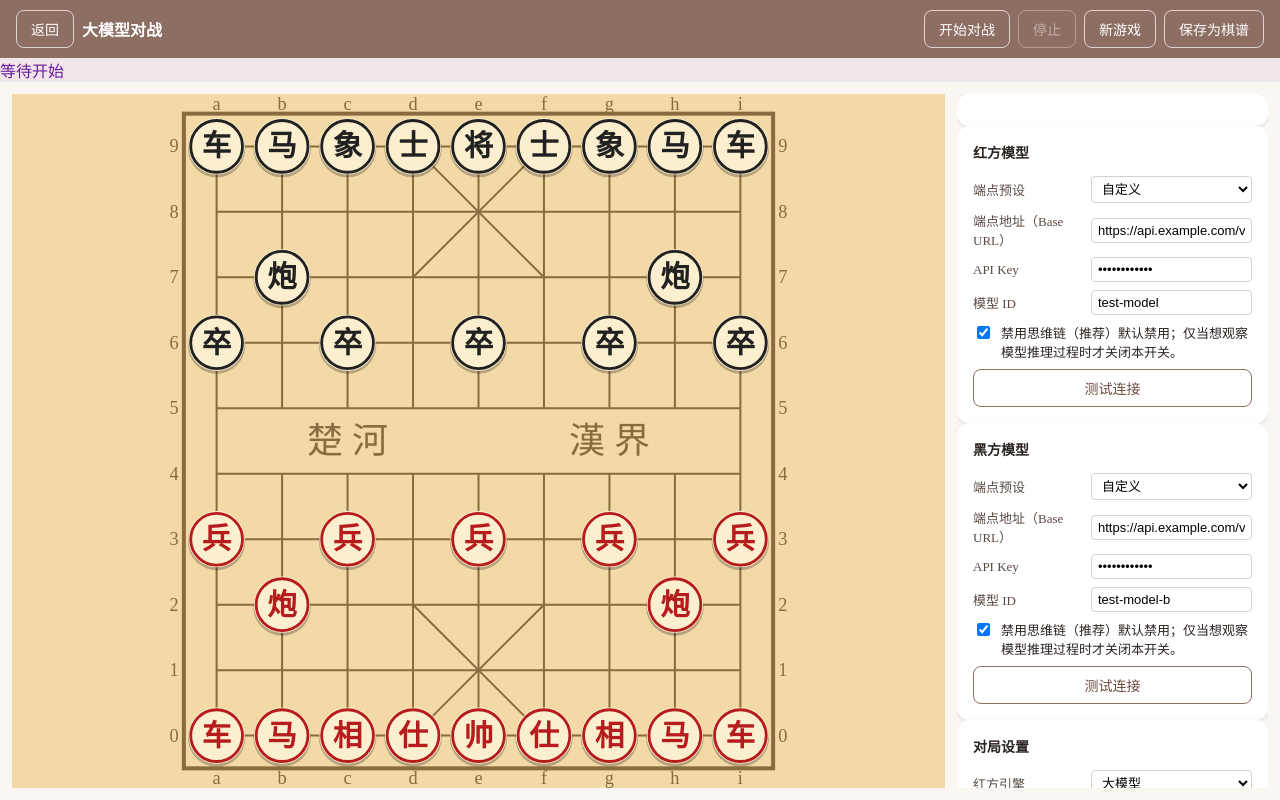
大模型对战页（08 §3.4 / 05 §8.1） › 06 新游戏：清空状态区并回到等待开始
Click the button with test id "llm-loop-toggle" at (967, 29), box [924,10,1010,48]
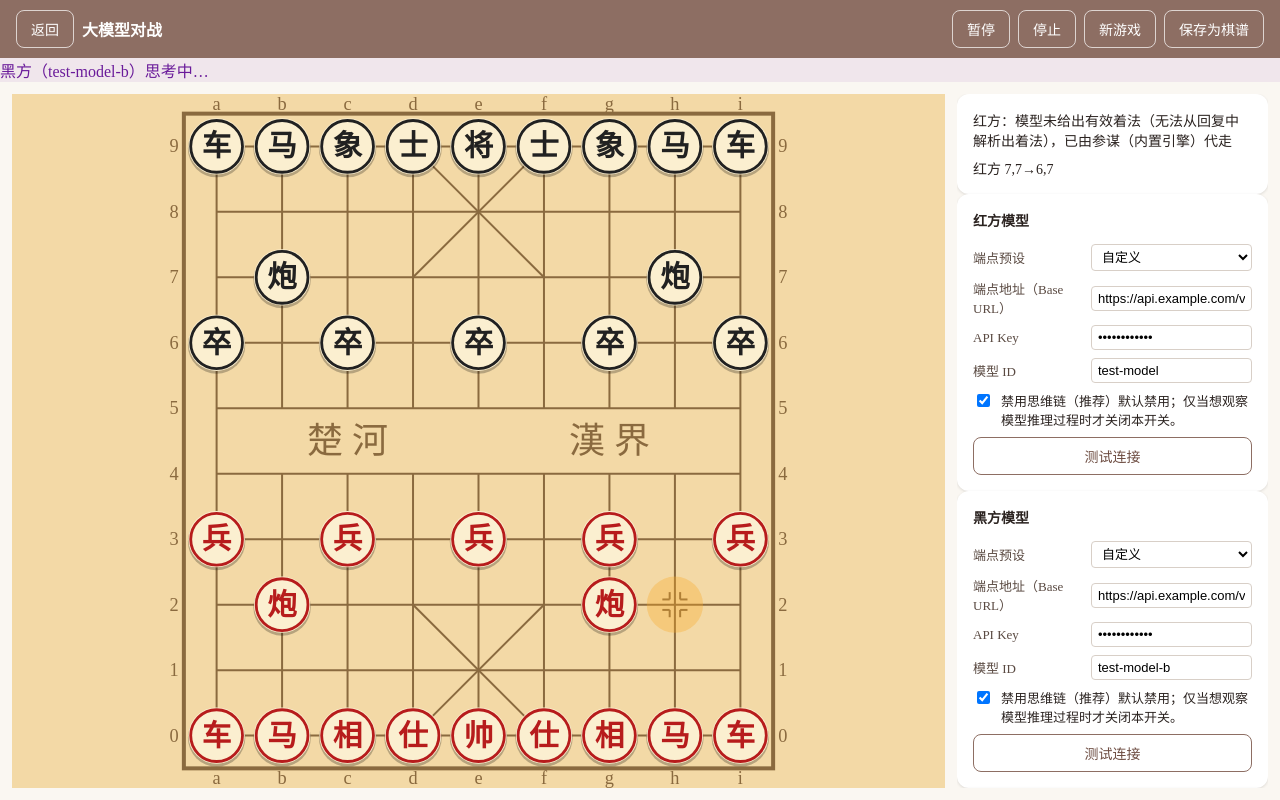
Expected: the text "红方：模型未给出有效着法（无法从回复中解析出着法），已由参谋（内置引擎）代走" is shown, [973,110,1252,150]
Click the button "新游戏" at (1120, 29), box [1084,10,1156,48]
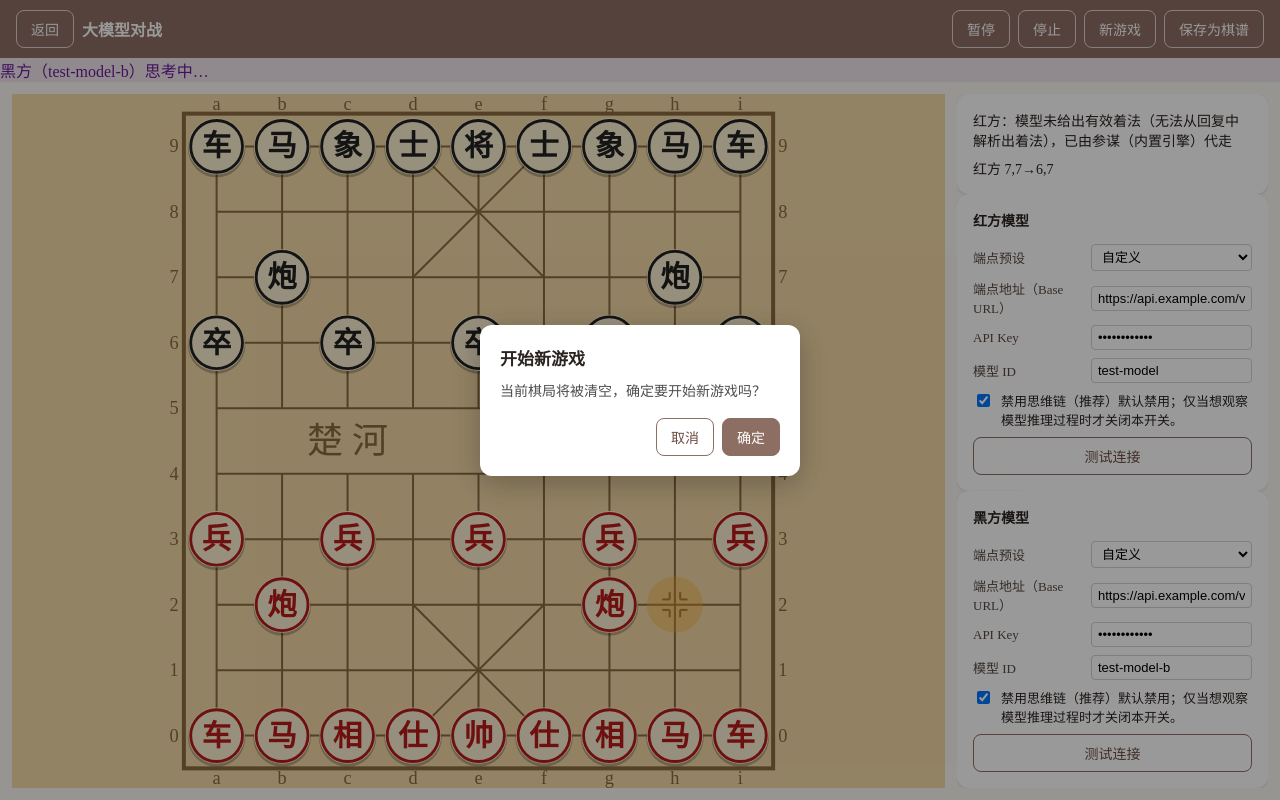
Click the button with class "cc-btn-primary" at (751, 436), box [722,418,780,456]
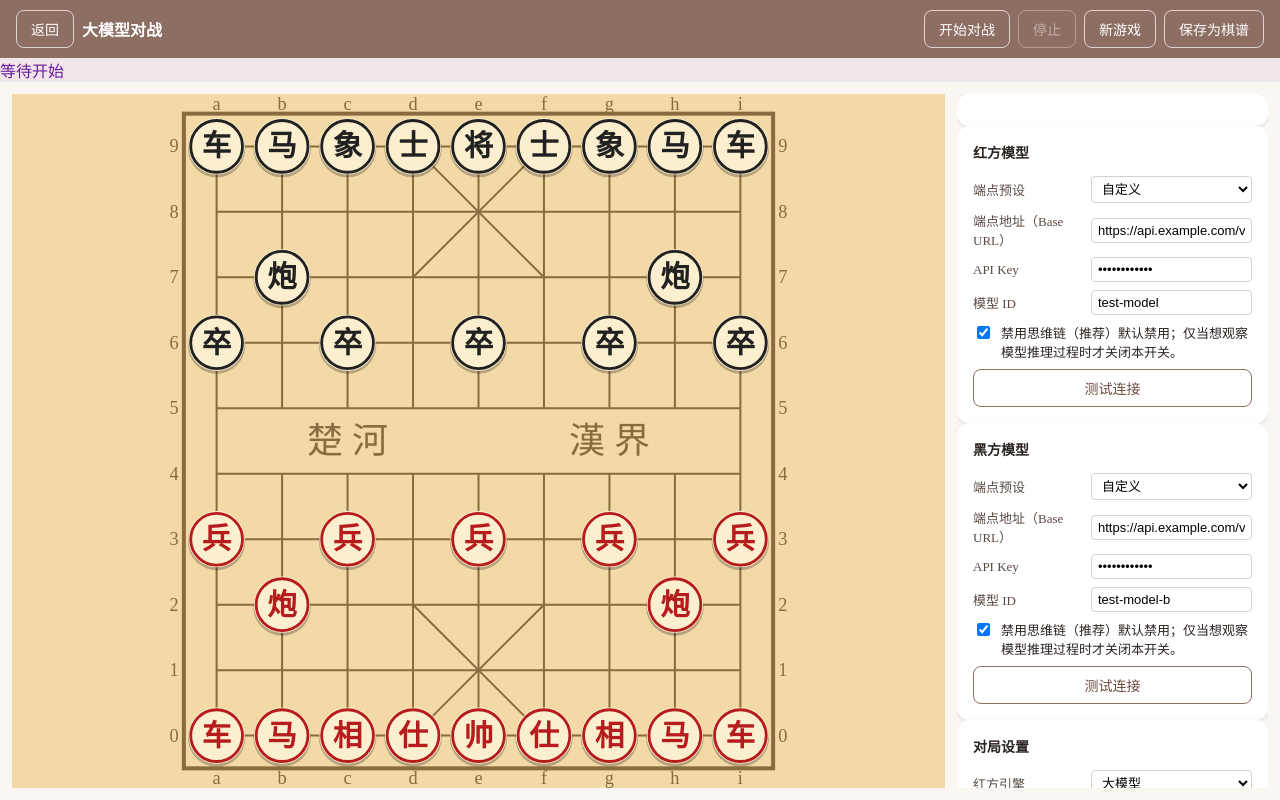
Expected: the message with test id "llm-loop-status" reads "等待开始", [0,63,64,80]
Expected: the text with test id "llm-red-note" is gone
